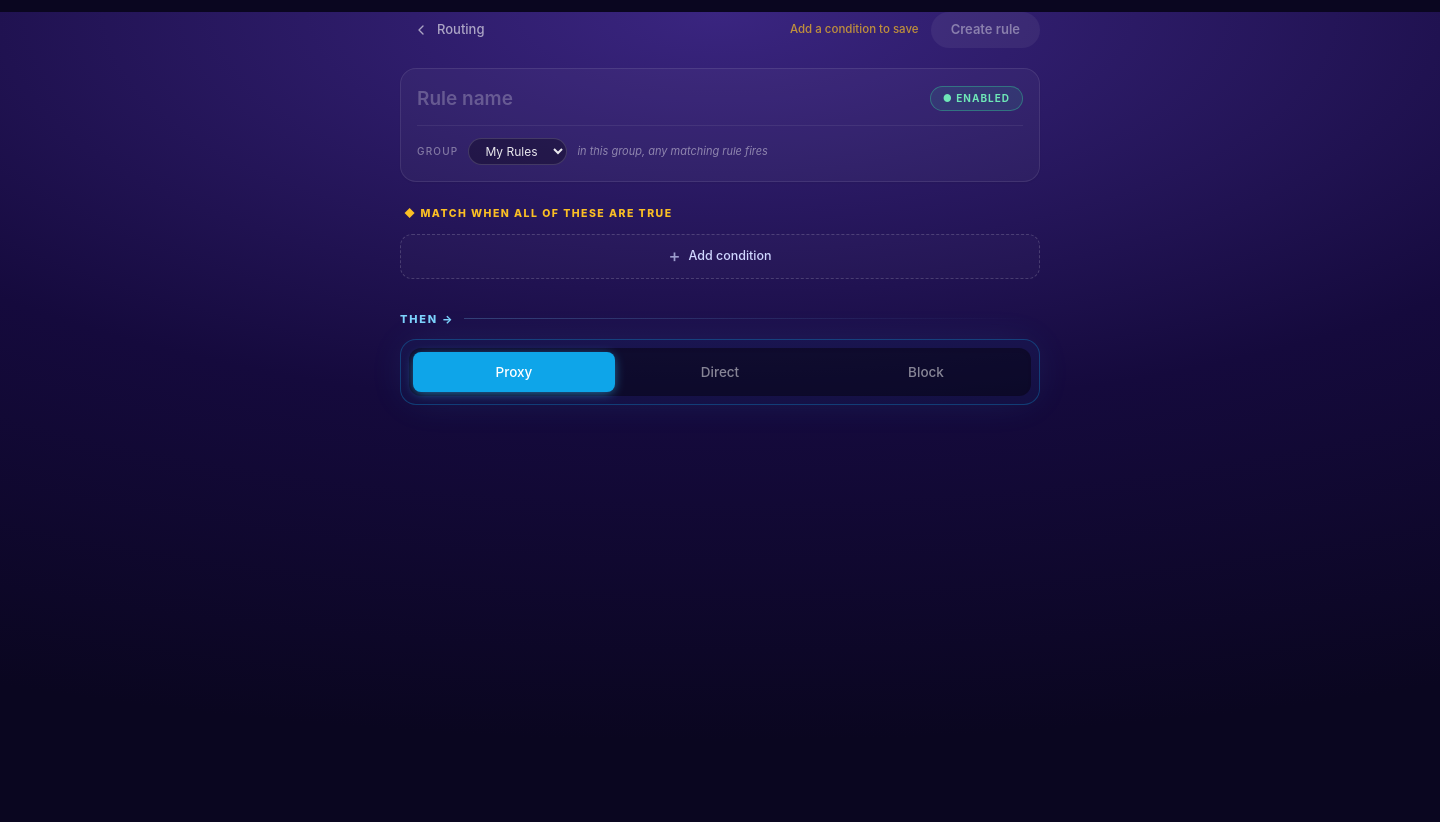
Test: RuleEditor › once a type is added it disappears from the picker options
Click the button "+ Add condition" at (720, 256), box left=400, top=234, right=1040, bottom=279
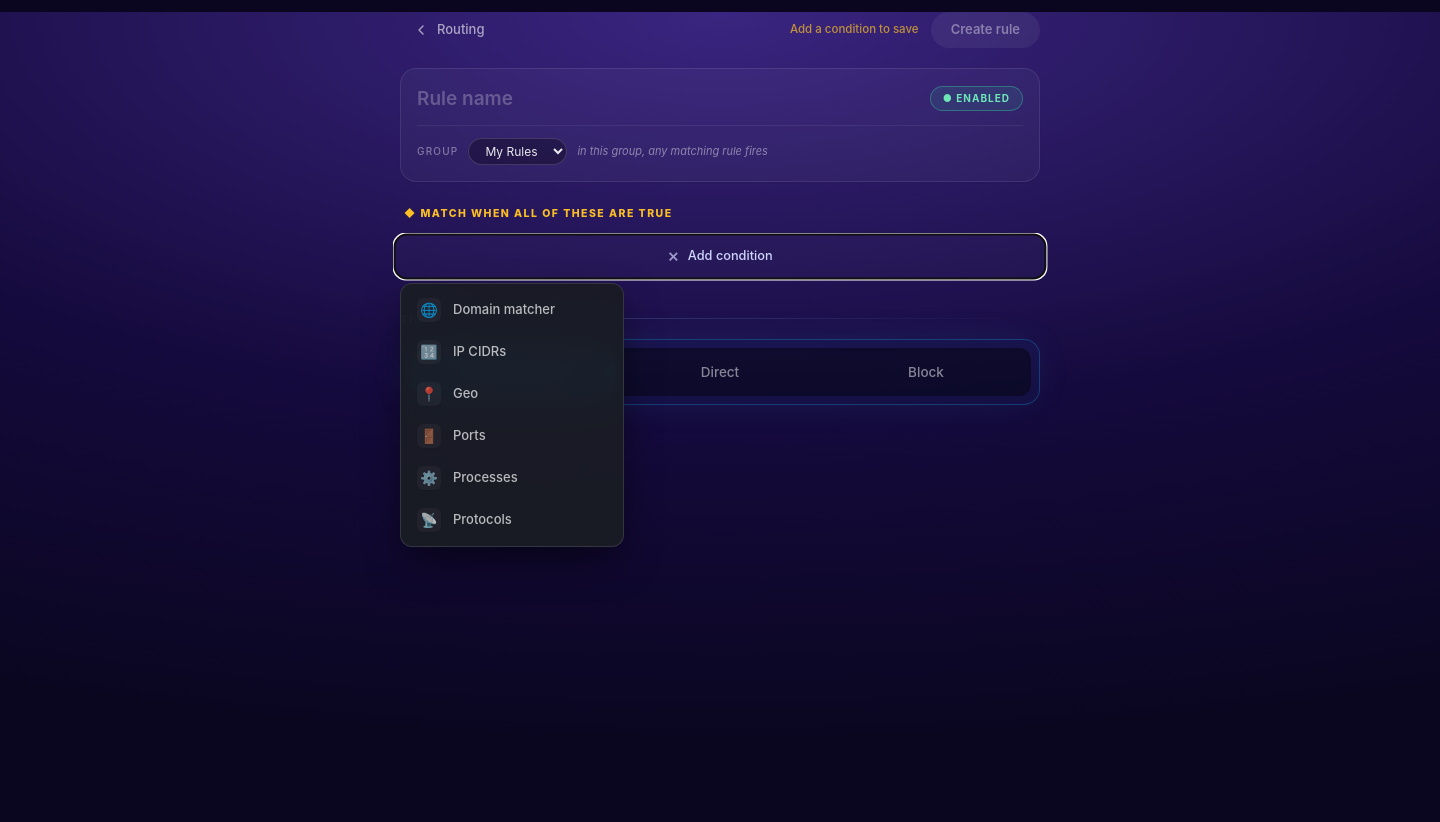
Click the menu item "🌐 Domain matcher" at (512, 310), box left=407, top=290, right=617, bottom=330
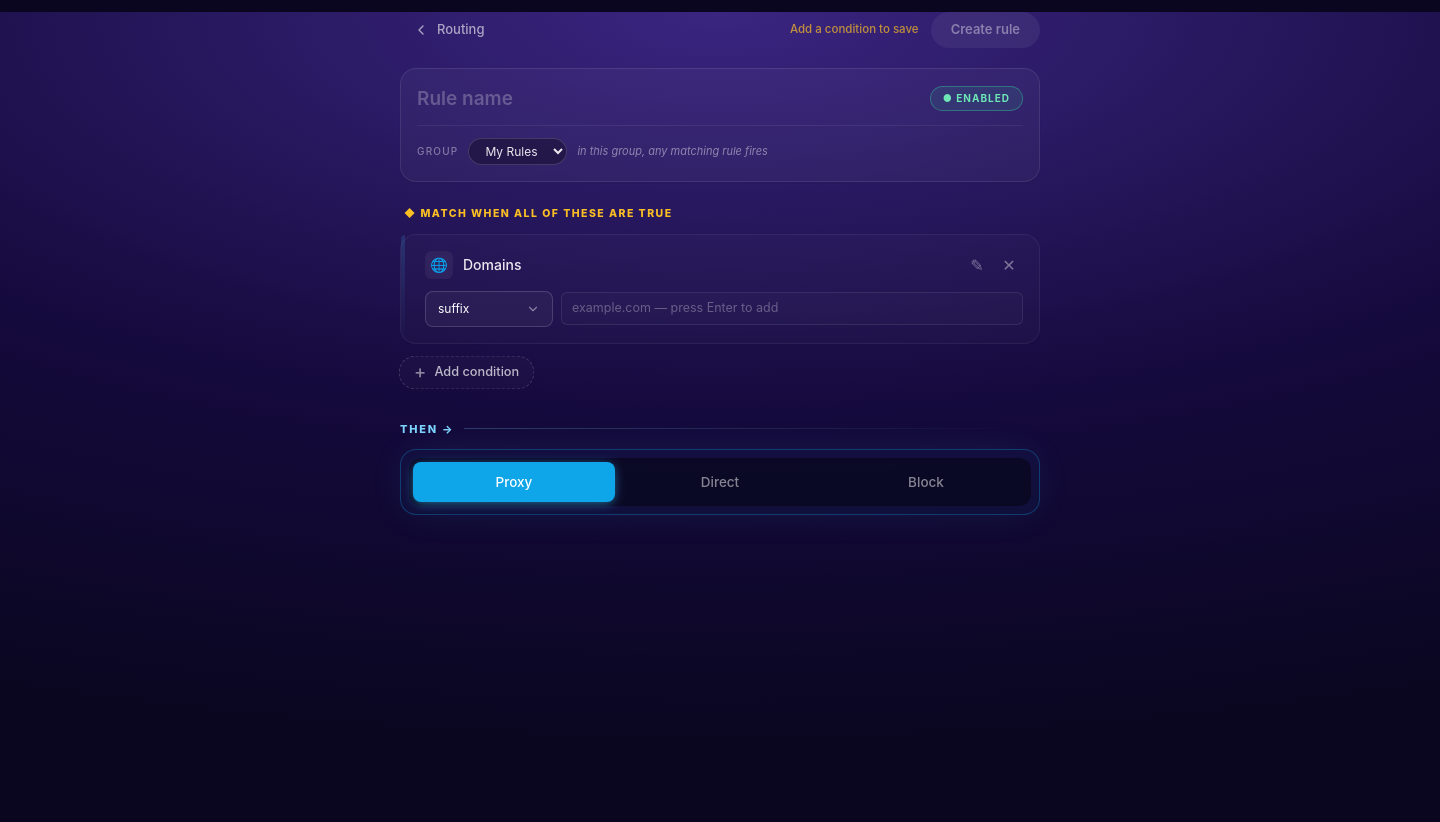
Click the button "+ Add condition" at (467, 372), box left=399, top=355, right=535, bottom=389
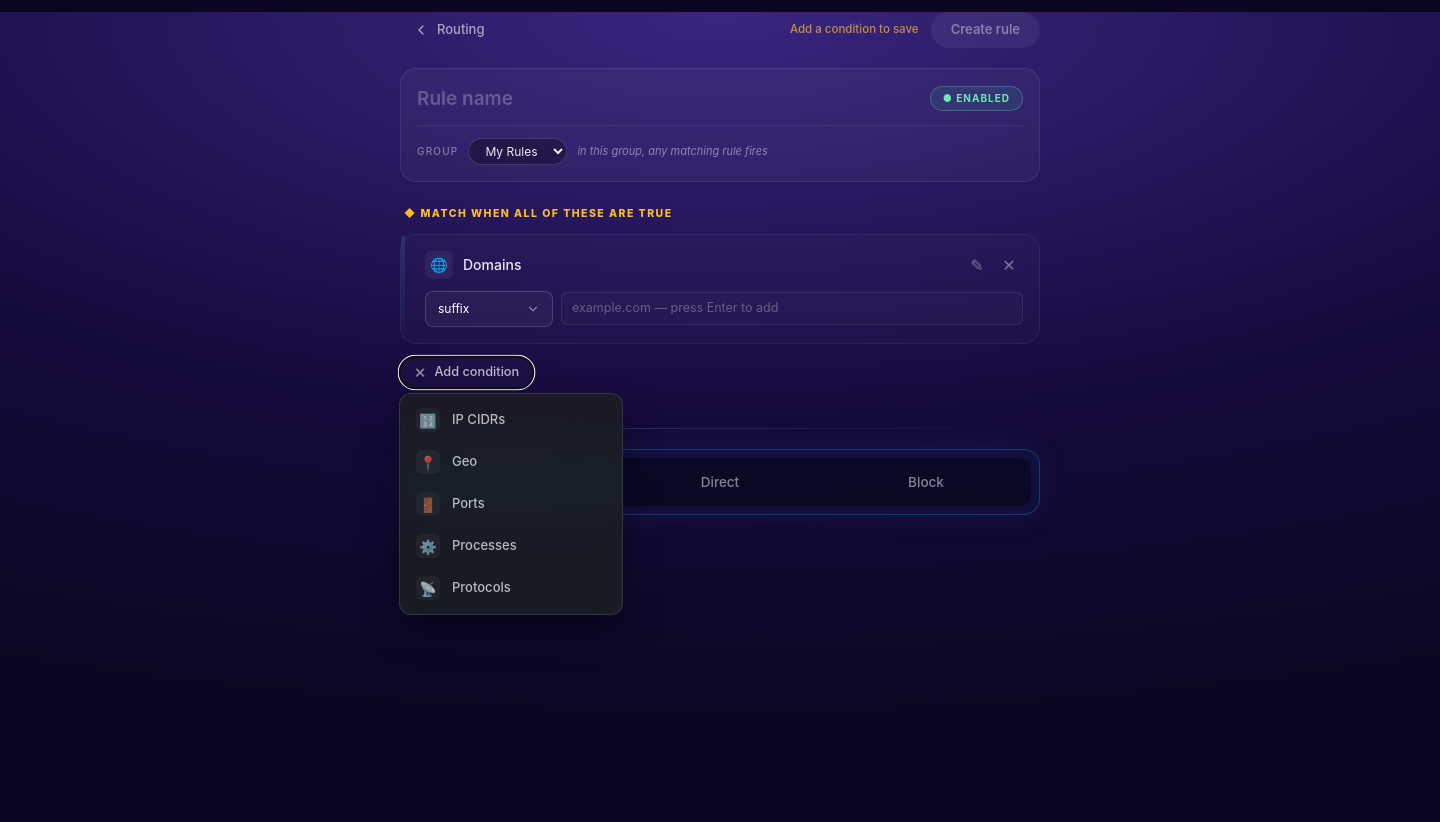
expect the number of menu items is 5: met, box left=406, top=400, right=616, bottom=440; left=406, top=442, right=616, bottom=482; left=406, top=484, right=616, bottom=524; left=406, top=526, right=616, bottom=566; left=406, top=568, right=616, bottom=608
